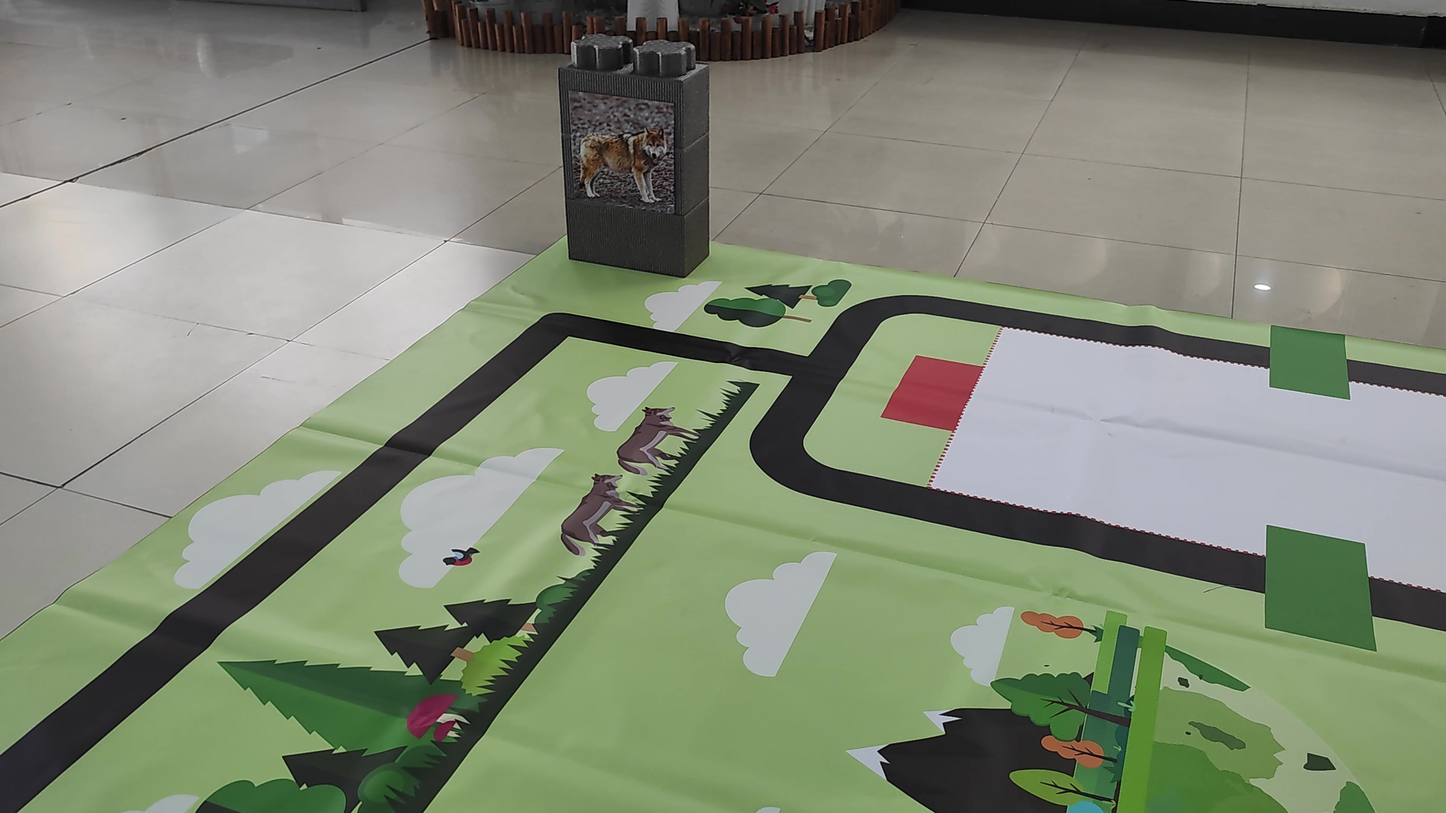wolf: (564, 110, 683, 211)
